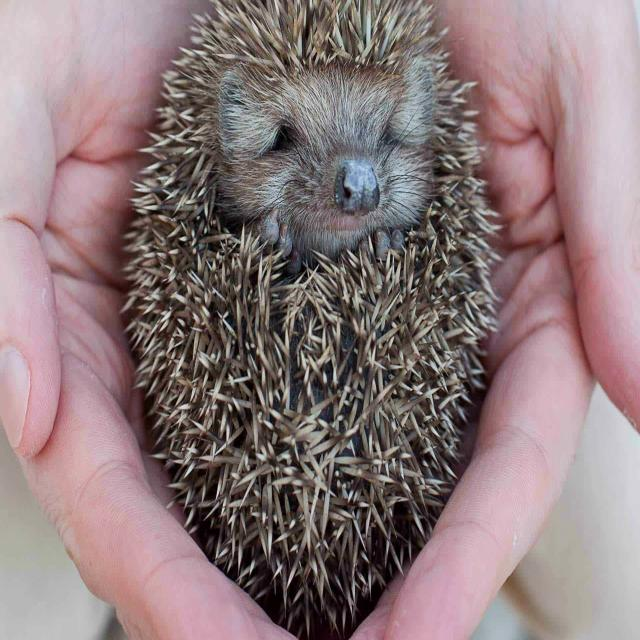hedgehog: (122, 0, 500, 639)
